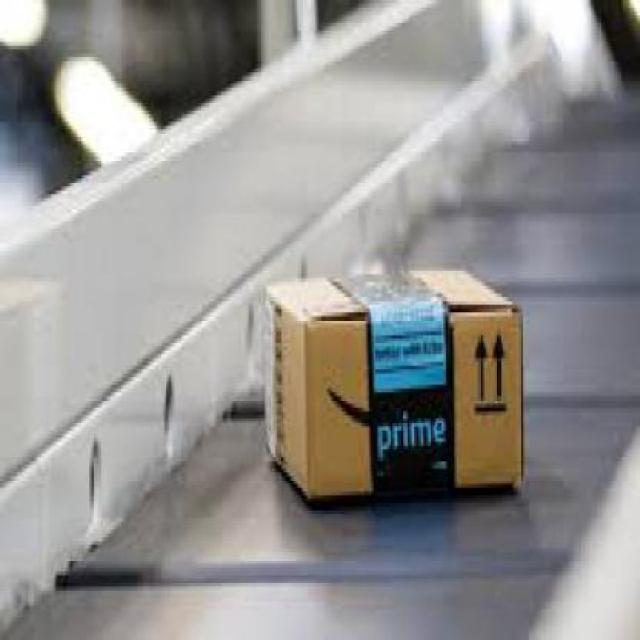cardboxes: (262, 267, 527, 515)
